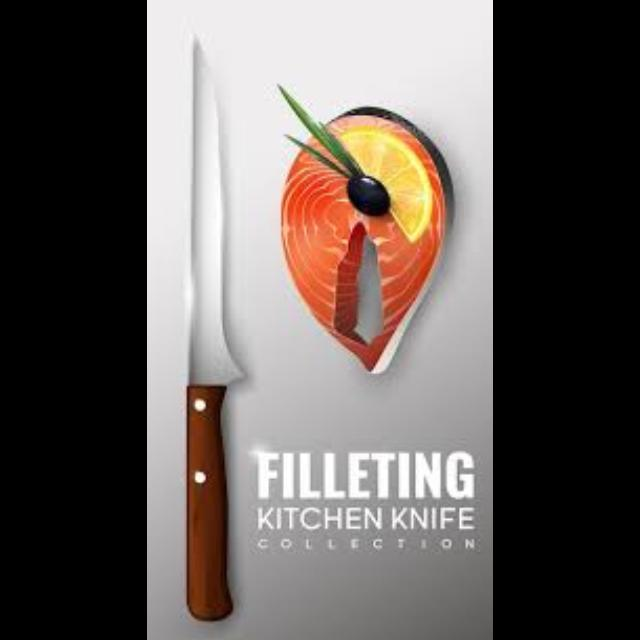Knife: (185, 29, 245, 620)
